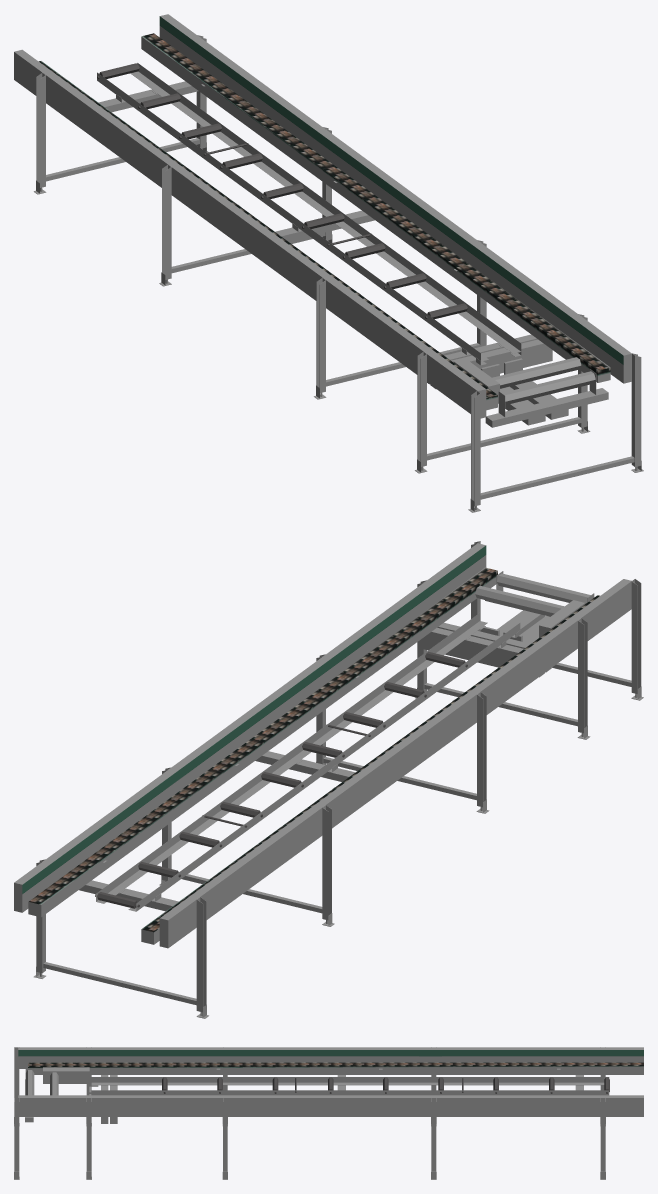
Rendered from liushui4.FBX.
The picture shows the model from 3 angles, top to bottom: view 1: azimuth 30°, elevation 25°; view 2: azimuth 150°, elevation 25°; view 3: azimuth 270°, elevation 25°; orthographic projection. The views are drawn at different scales.
Visible parts, largest first — view 1: YF_Model_liushui4; view 2: YF_Model_liushui4; view 3: YF_Model_liushui4.
Part boxes in pixels (bbox=[...]): YF_Model_liushui4: bbox=[14, 14, 643, 512]; YF_Model_liushui4: bbox=[14, 541, 643, 1018]; YF_Model_liushui4: bbox=[14, 1047, 643, 1179].
Bounding box in the file's own units: 40.22 × 26.25 × 190.
1 material, 1 textured.
